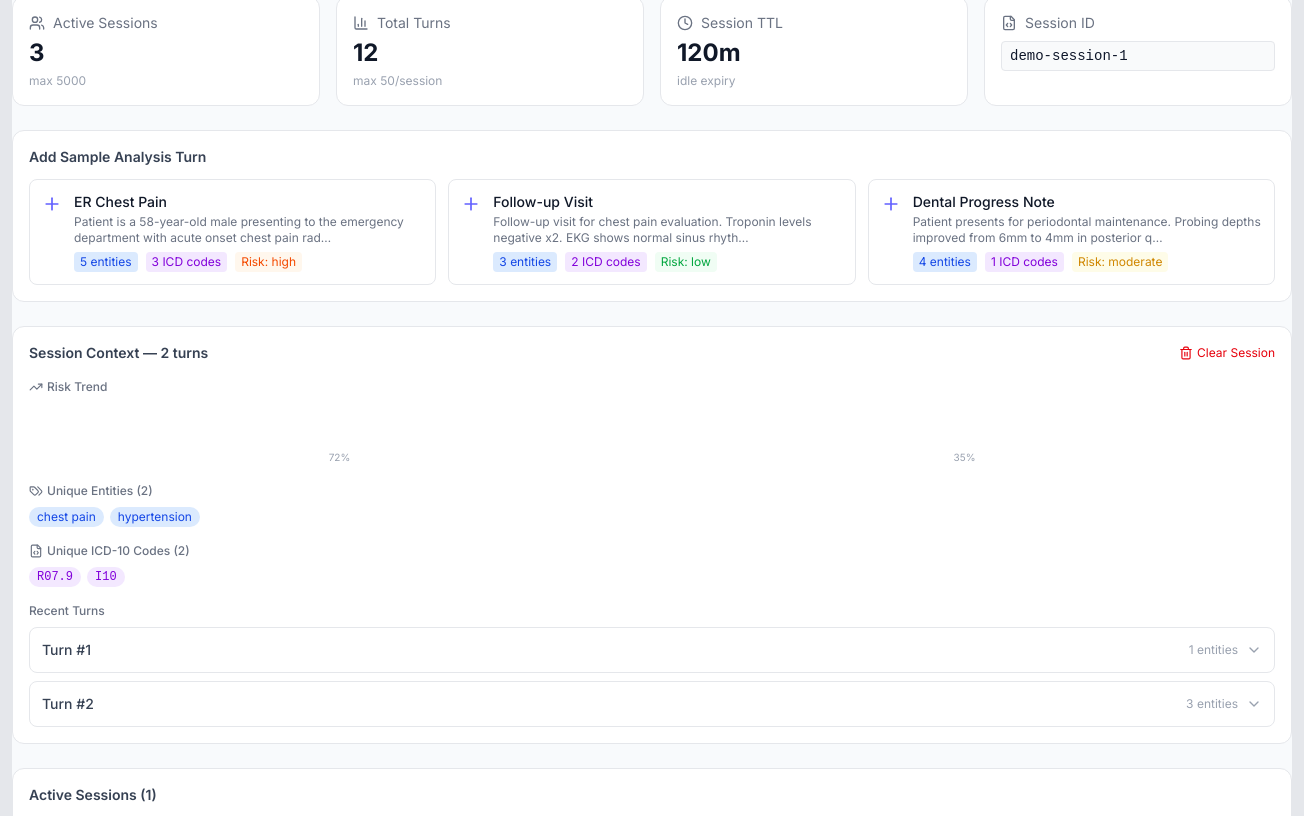
Test: ConversationMemory — context display › expands turn details on click
Click the text "Turn #1".
click(66, 650)  # box [42,640,91,660]
(page scrolled)
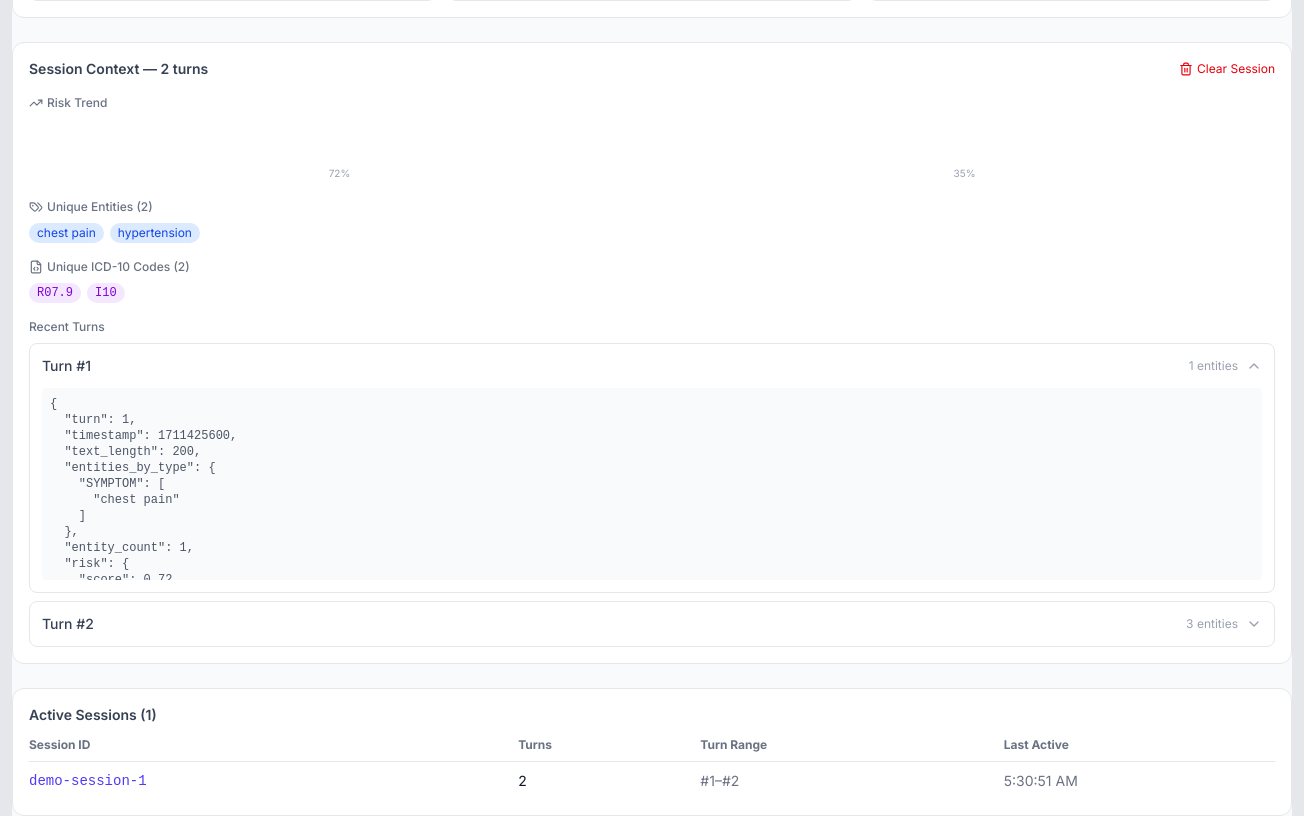
Now the text "\"turn\": 1" is shown, box [50,397,237,635]
